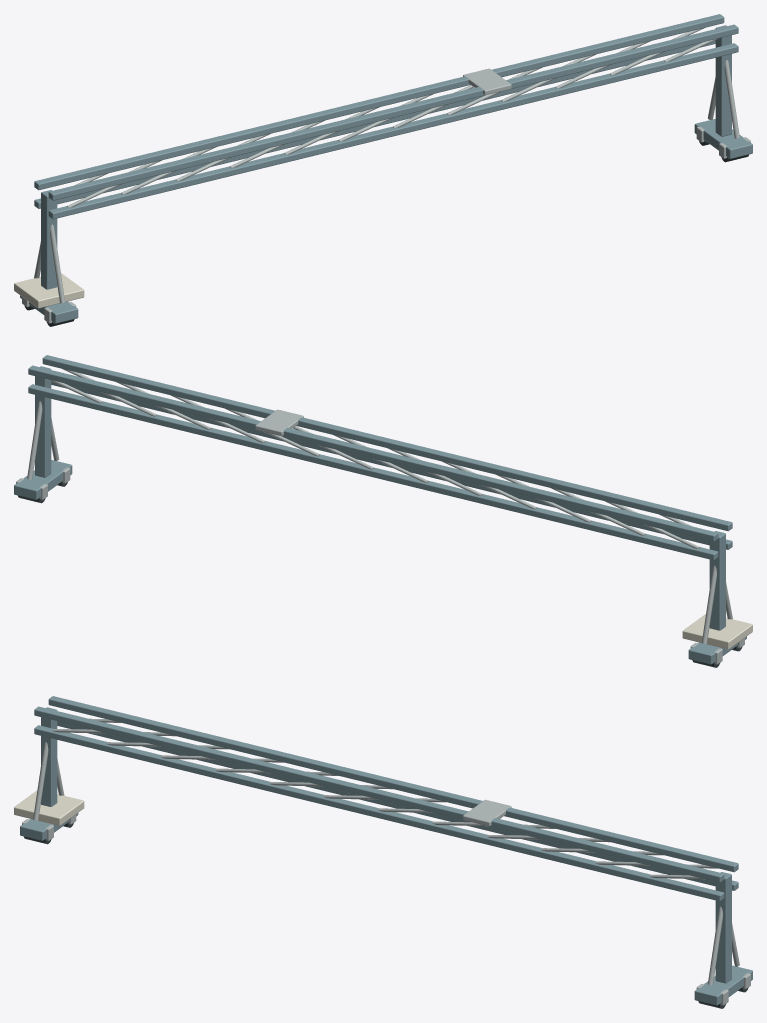
Rendered from abandoned-tidal-model-testing-hall-measurement-gantry-cd57a3af__32346.glb.
The picture shows the model from 3 angles, top to bottom: view 1: azimuth 30°, elevation 25°; view 2: azimuth 150°, elevation 25°; view 3: azimuth 330°, elevation 25°; orthographic projection.
Visible parts, largest first — view 1: measurement-gantry; view 2: measurement-gantry; view 3: measurement-gantry.
Part boxes in pixels (bbox=[...]): measurement-gantry: bbox=[14, 14, 752, 326]; measurement-gantry: bbox=[14, 355, 752, 667]; measurement-gantry: bbox=[14, 696, 752, 1008].
Bounding box in the file's own units: 9.18 × 1.59 × 0.7998.
